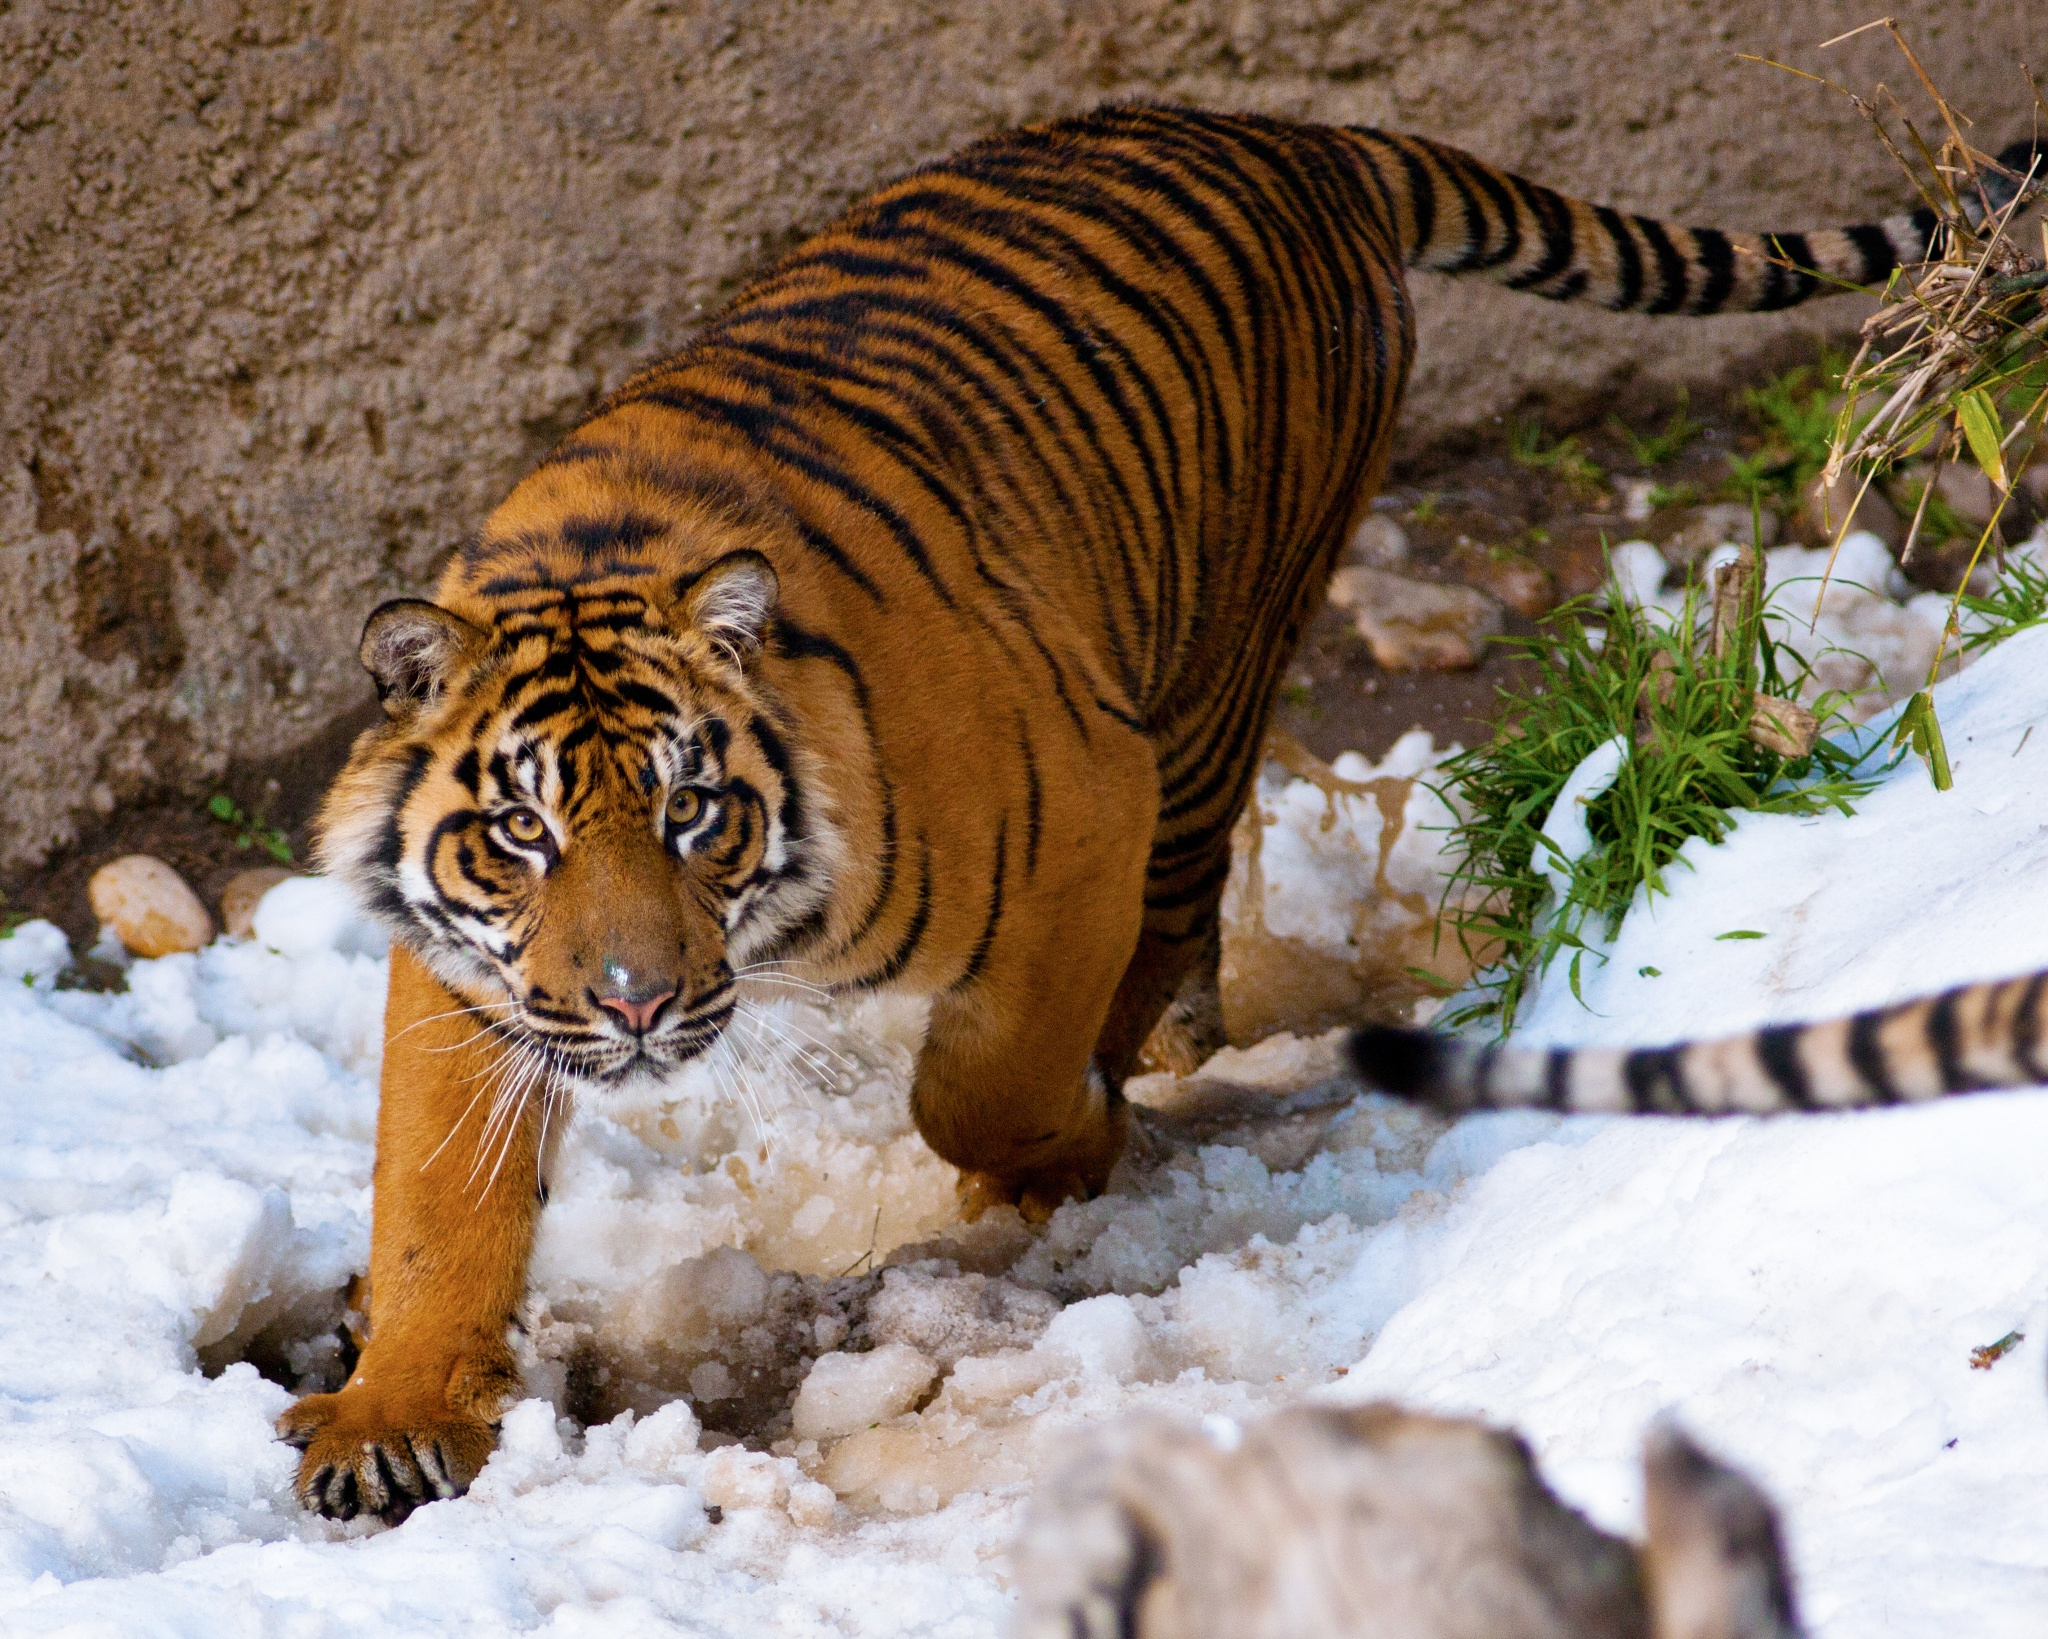tiger: (254, 90, 1684, 1417)
